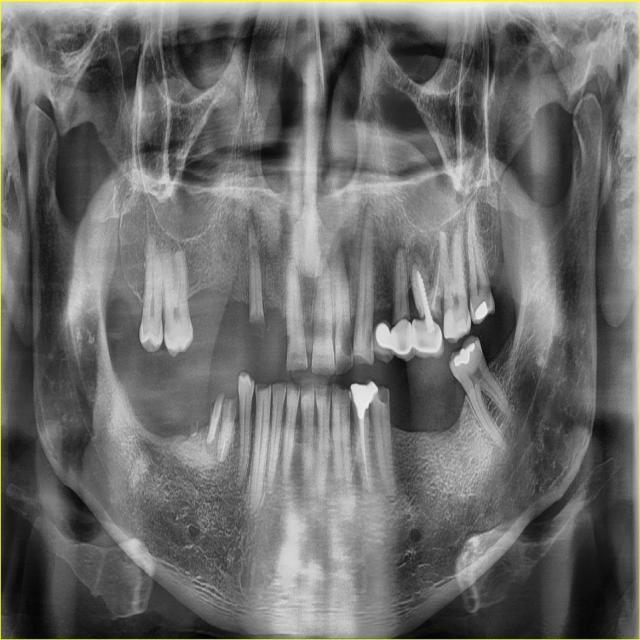Caries: (340, 319, 353, 360), (376, 386, 390, 417), (364, 321, 373, 357)
Crown: (410, 320, 443, 358), (390, 320, 415, 363), (372, 319, 393, 364)
Filling: (351, 383, 369, 419), (444, 309, 466, 338), (454, 343, 475, 366), (367, 380, 378, 403), (475, 300, 487, 320)
Missing teeth: (388, 362, 468, 434), (188, 285, 248, 345), (135, 382, 185, 438), (265, 308, 290, 365)
Periapical lesion: (405, 237, 439, 288), (245, 202, 258, 247), (391, 235, 408, 268), (361, 202, 373, 232)
Root Canal Treatment: (359, 410, 368, 484), (431, 260, 439, 310)
Root Piece: (247, 218, 266, 338), (217, 396, 237, 463), (207, 390, 224, 444), (189, 424, 199, 438)
